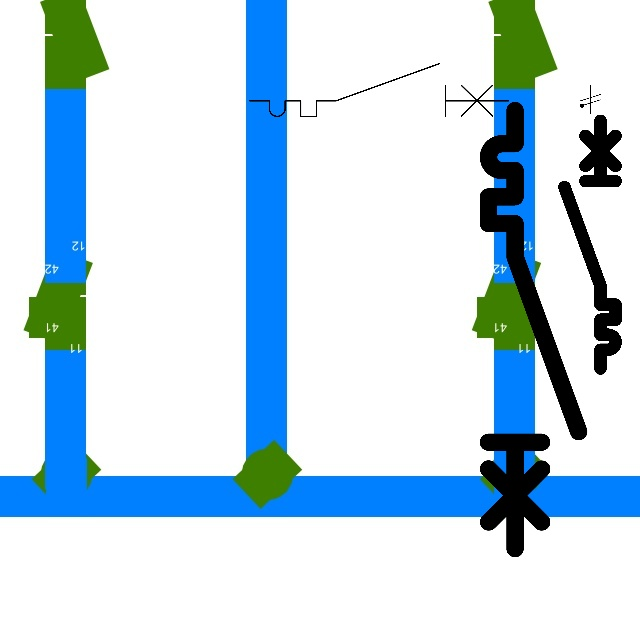interruptor_termomagnetico: (477, 99, 590, 560), (243, 57, 515, 123), (558, 114, 622, 375)
